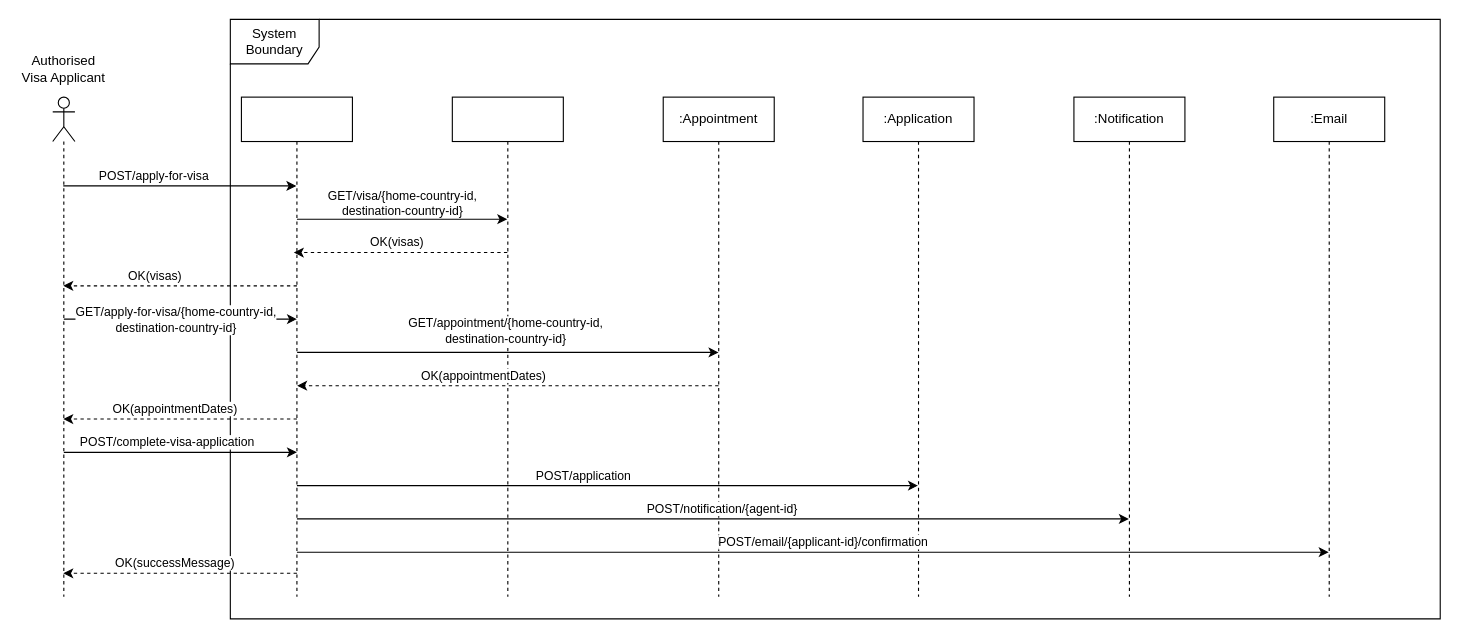
Image size: 1460x638. Some labels were removed from this diagram. The box of each missing label's shape, as (x1, y1, x2, y2) in pixels:
:Visa: (451, 96, 563, 597)
:Visa Application Reviewing: (240, 96, 352, 597)
